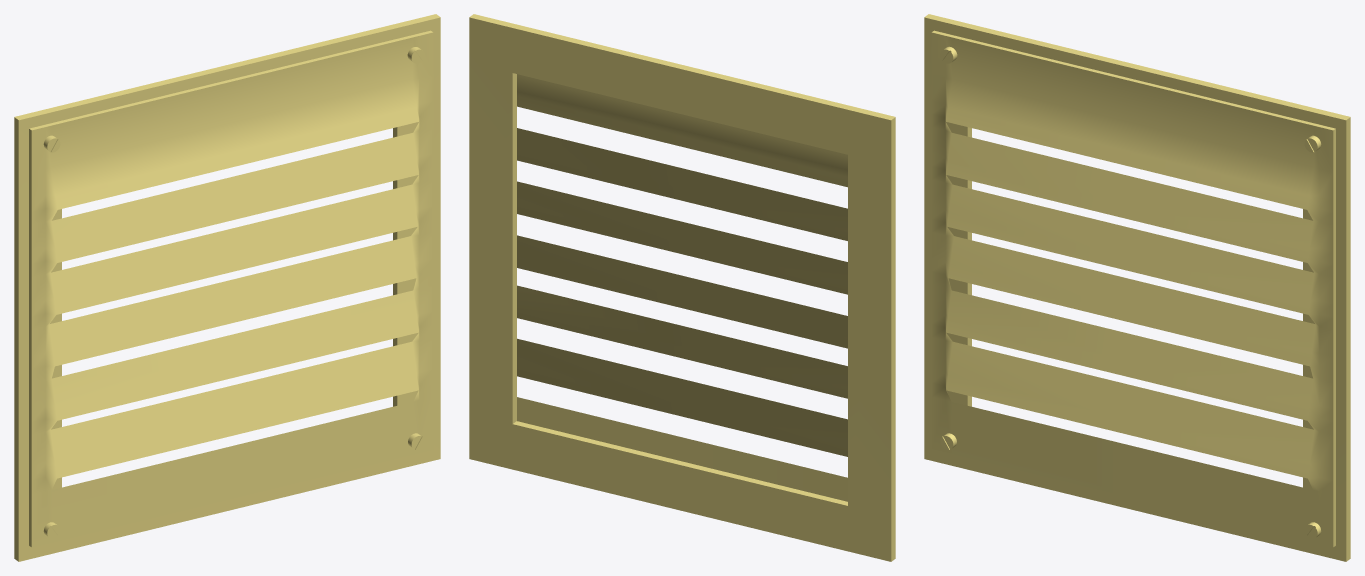
Rendered from ventilation.fbx.
3 renders of one model, left to right at view 1: azimuth 30°, elevation 25°; view 2: azimuth 150°, elevation 25°; view 3: azimuth 330°, elevation 25°, orthographic.
Parts seen in each view (by area): view 1: pCube18, pCube17, screw; view 2: pCube17, pCube18; view 3: pCube18, pCube17, screw.
Part boxes in pixels (bbox=[...]): pCube18: bbox=[29, 30, 433, 547]; pCube17: bbox=[14, 14, 440, 561]; screw: bbox=[43, 47, 424, 538]; pCube17: bbox=[469, 14, 895, 561]; pCube18: bbox=[517, 74, 847, 501]; pCube18: bbox=[931, 30, 1335, 547]; pCube17: bbox=[924, 14, 1350, 561]; screw: bbox=[940, 46, 1321, 538].
Size of the model in its own units: 63.55 by 63.55 by 3.48.
